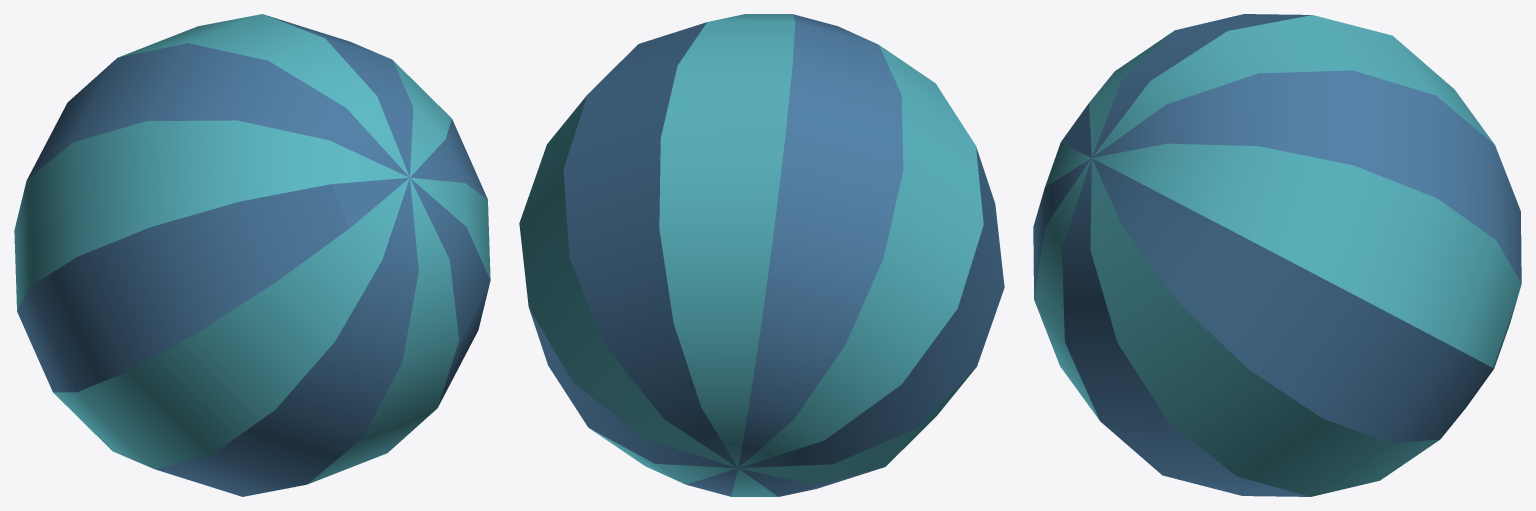
Rendered from ball-blue.fbx.
3 views of the same model, side by side, from view 1: azimuth 30°, elevation 25°; view 2: azimuth 150°, elevation 25°; view 3: azimuth 270°, elevation 25° (orthographic). The views are drawn at different scales.
Parts seen in each view (by area): view 1: ball-blue; view 2: ball-blue; view 3: ball-blue.
Boxes of the visible parts, x1=… form: ball-blue: x1=14, y1=14, x2=490, y2=496; ball-blue: x1=519, y1=14, x2=1004, y2=496; ball-blue: x1=1033, y1=14, x2=1521, y2=496.
Bounding box in the file's own units: 0.2381 × 0.235 × 0.2362.
